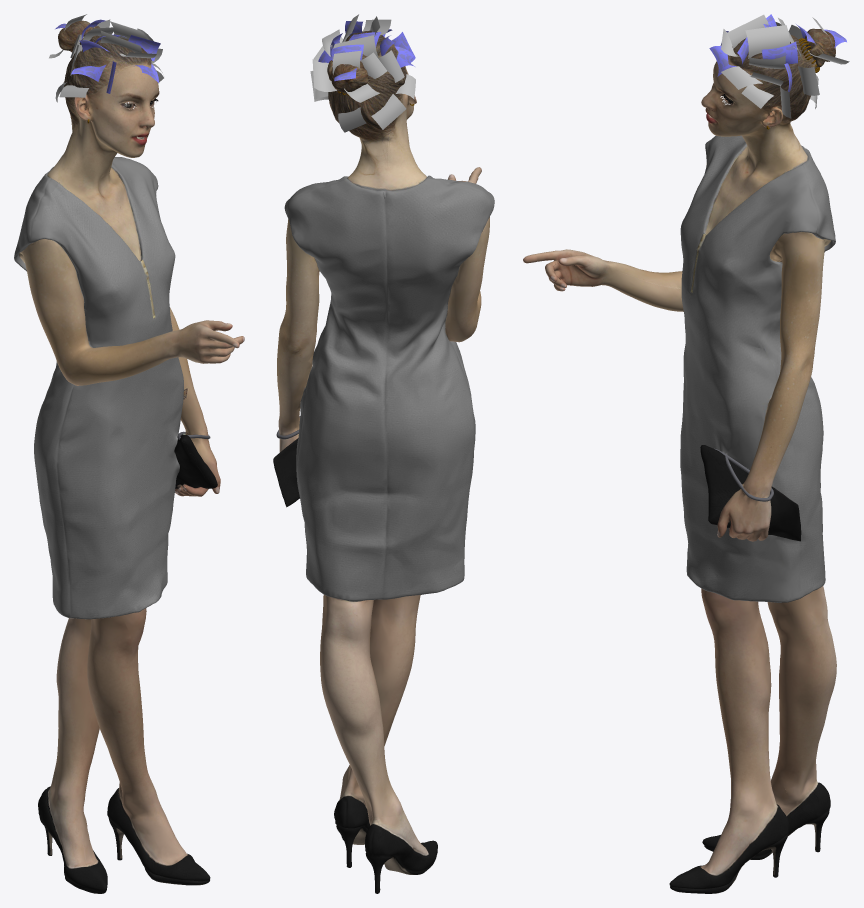
Rendered from woman_low-poly_model_scan.glb.
The picture shows the model from 3 angles, left to right: view 1: azimuth 30°, elevation 25°; view 2: azimuth 150°, elevation 25°; view 3: azimuth 270°, elevation 25°; orthographic projection.
Parts seen in each view (by area): view 1: GTP_CWMan_Barbara_Spg_03_Stg_Pnt_GTP_CWMan_Barbara_Spg_03_St, GTP_CWMan_Barbara_Spg_03_Stg_Pnt_Hair3_GTP_CWman_Barbara_Spg, GTP_CWMan_Barbara_Spg_03_Stg_Pnt_Hair2_GTP_CWMan_Barbara_Spg, GTP_CWMan_Barbara_Spg_03_Stg_Pnt_Hair1_GTP_CWMan_Barbara_Spg; view 2: GTP_CWMan_Barbara_Spg_03_Stg_Pnt_GTP_CWMan_Barbara_Spg_03_St, GTP_CWMan_Barbara_Spg_03_Stg_Pnt_Hair3_GTP_CWman_Barbara_Spg, GTP_CWMan_Barbara_Spg_03_Stg_Pnt_Hair2_GTP_CWMan_Barbara_Spg, GTP_CWMan_Barbara_Spg_03_Stg_Pnt_Hair1_GTP_CWMan_Barbara_Spg; view 3: GTP_CWMan_Barbara_Spg_03_Stg_Pnt_GTP_CWMan_Barbara_Spg_03_St, GTP_CWMan_Barbara_Spg_03_Stg_Pnt_Hair3_GTP_CWman_Barbara_Spg, GTP_CWMan_Barbara_Spg_03_Stg_Pnt_Hair2_GTP_CWMan_Barbara_Spg, GTP_CWMan_Barbara_Spg_03_Stg_Pnt_Hair1_GTP_CWMan_Barbara_Spg.
Boxes of the visible parts, left/top/right/bottom form: GTP_CWMan_Barbara_Spg_03_Stg_Pnt_GTP_CWMan_Barbara_Spg_03_St: left=14, top=20, right=244, bottom=893; GTP_CWMan_Barbara_Spg_03_Stg_Pnt_Hair3_GTP_CWman_Barbara_Spg: left=49, top=19, right=163, bottom=102; GTP_CWMan_Barbara_Spg_03_Stg_Pnt_Hair2_GTP_CWMan_Barbara_Spg: left=55, top=19, right=160, bottom=93; GTP_CWMan_Barbara_Spg_03_Stg_Pnt_Hair1_GTP_CWMan_Barbara_Spg: left=64, top=14, right=141, bottom=52; GTP_CWMan_Barbara_Spg_03_Stg_Pnt_GTP_CWMan_Barbara_Spg_03_St: left=273, top=30, right=494, bottom=893; GTP_CWMan_Barbara_Spg_03_Stg_Pnt_Hair3_GTP_CWman_Barbara_Spg: left=310, top=14, right=415, bottom=132; GTP_CWMan_Barbara_Spg_03_Stg_Pnt_Hair2_GTP_CWMan_Barbara_Spg: left=318, top=21, right=415, bottom=81; GTP_CWMan_Barbara_Spg_03_Stg_Pnt_Hair1_GTP_CWMan_Barbara_Spg: left=331, top=16, right=379, bottom=74; GTP_CWMan_Barbara_Spg_03_Stg_Pnt_GTP_CWMan_Barbara_Spg_03_St: left=523, top=28, right=836, bottom=893; GTP_CWMan_Barbara_Spg_03_Stg_Pnt_Hair3_GTP_CWman_Barbara_Spg: left=721, top=22, right=849, bottom=118; GTP_CWMan_Barbara_Spg_03_Stg_Pnt_Hair2_GTP_CWMan_Barbara_Spg: left=709, top=14, right=846, bottom=91; GTP_CWMan_Barbara_Spg_03_Stg_Pnt_Hair1_GTP_CWMan_Barbara_Spg: left=727, top=14, right=832, bottom=58.
Size of the model in its own units: 0.4592 by 1.88 by 0.6547.
12 materials, 6 textured.
